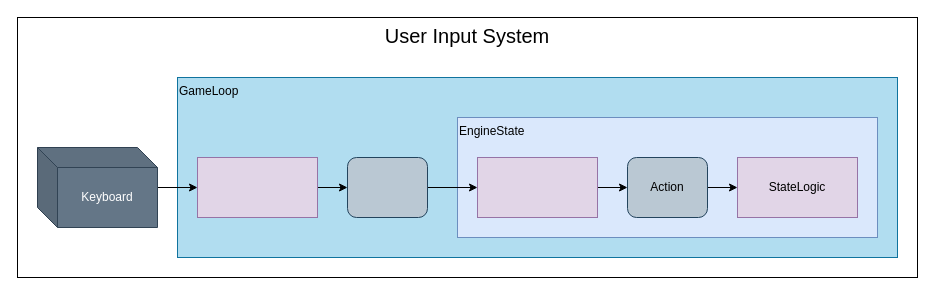
The diagram is 935 pixels wide and 295 high, and some of its shapes have lost their labels. The shapes that lost their labels are listed below. From the top down, each one's centre as x and y in pixels, then its label:
pixel 257 187: UserInput.Poll()
pixel 387 187: ConsoleKey
pixel 537 187: InputMapper
